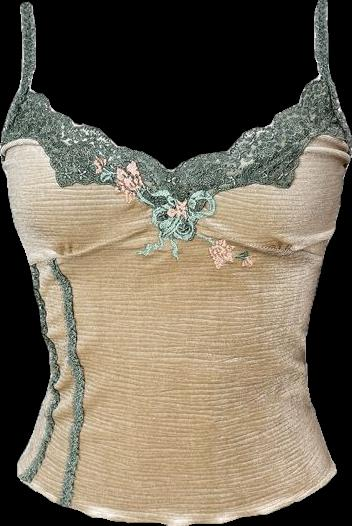Bodice: (0, 76, 351, 525)
Neckline: (17, 74, 332, 175)
Waistline: (13, 465, 339, 525)
